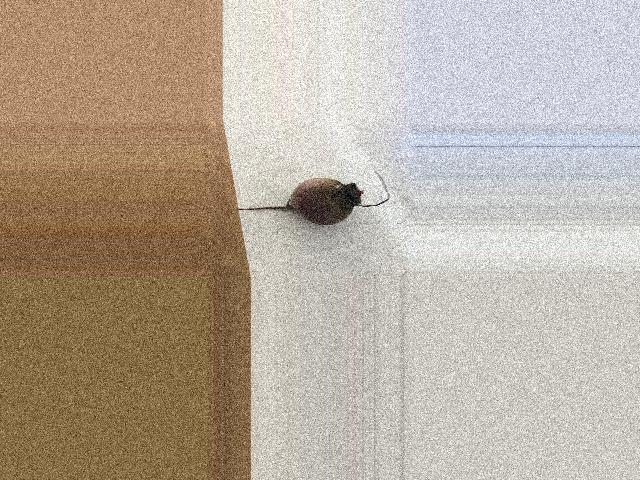beet: (234, 171, 388, 225)
